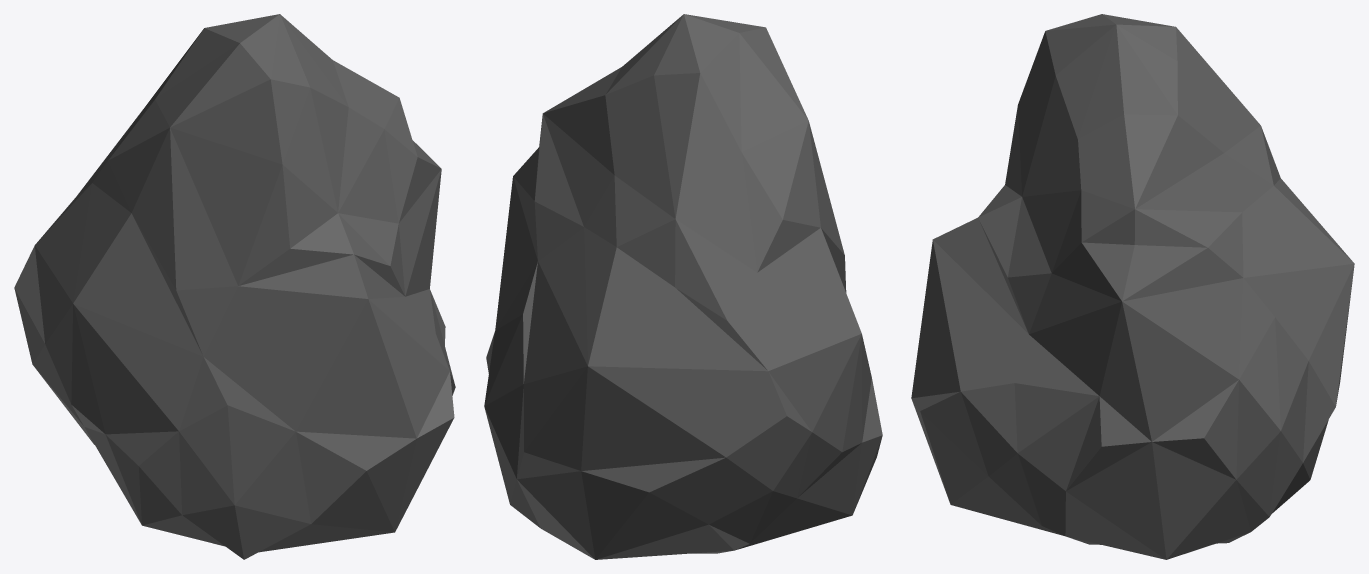
Rendered from Rock1.fbx.
The picture shows the model from 3 angles, left to right: view 1: azimuth 30°, elevation 25°; view 2: azimuth 150°, elevation 25°; view 3: azimuth 270°, elevation 25°; orthographic projection. The views are drawn at different scales.
Parts seen in each view (by area): view 1: Rock1; view 2: Rock1; view 3: Rock1.
Part boxes in pixels (bbox=[...]): Rock1: bbox=[14, 14, 455, 559]; Rock1: bbox=[484, 14, 882, 559]; Rock1: bbox=[911, 14, 1354, 559].
Size of the model in its own units: 88.3 by 118 by 95.58.
